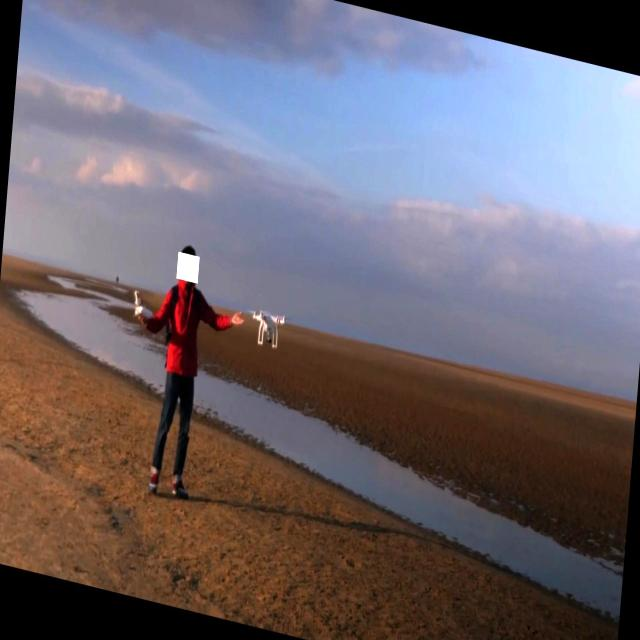drone: (247, 307, 286, 350)
